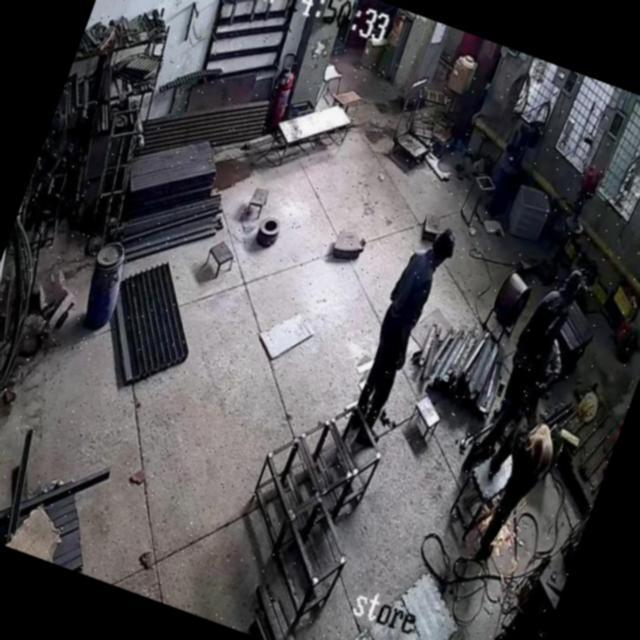person: (358, 230, 454, 414), (503, 266, 587, 420), (480, 416, 573, 523)
